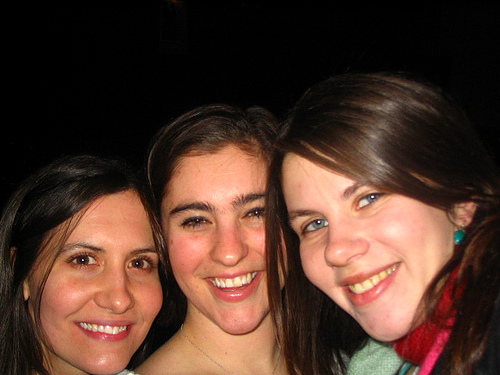without_mask: (279, 149, 486, 347), (18, 202, 166, 375), (161, 146, 289, 335)
